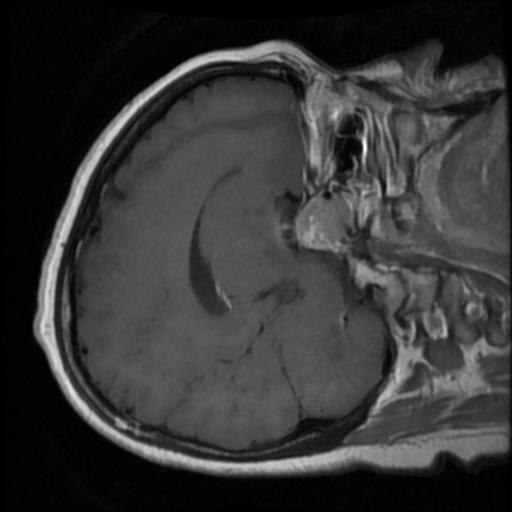pituitary tumour: (294, 194, 350, 250)
